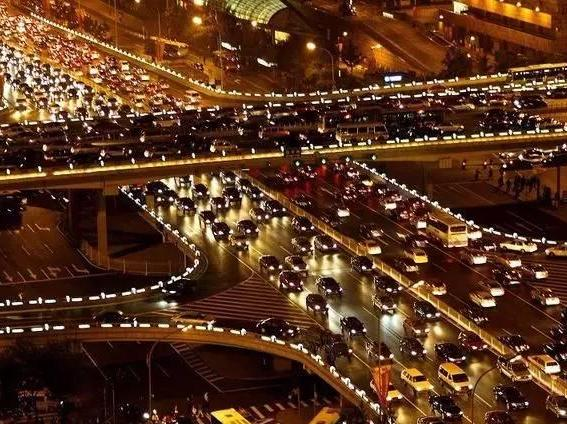bus: (318, 107, 383, 134), (424, 211, 469, 249)
car: (314, 275, 343, 296), (256, 253, 284, 272), (349, 254, 373, 273), (236, 218, 260, 236)
suv: (495, 351, 532, 382), (399, 368, 434, 395)
truck: (335, 119, 390, 143), (437, 362, 474, 396)
